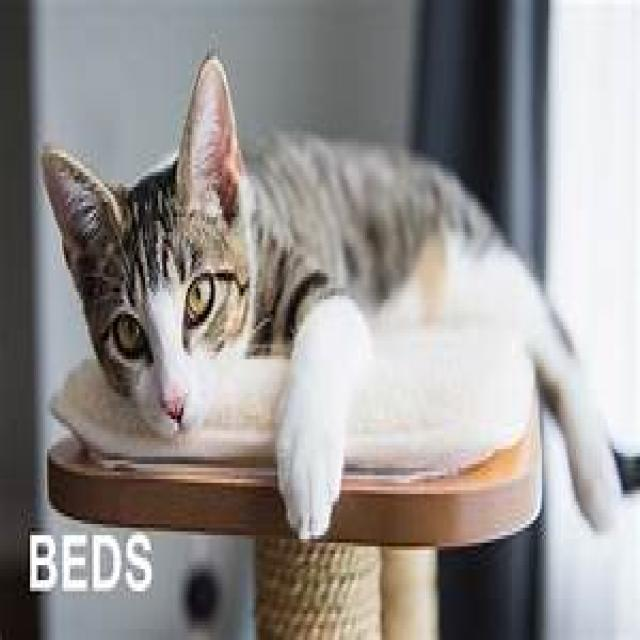KEDI: (35, 44, 640, 554)
